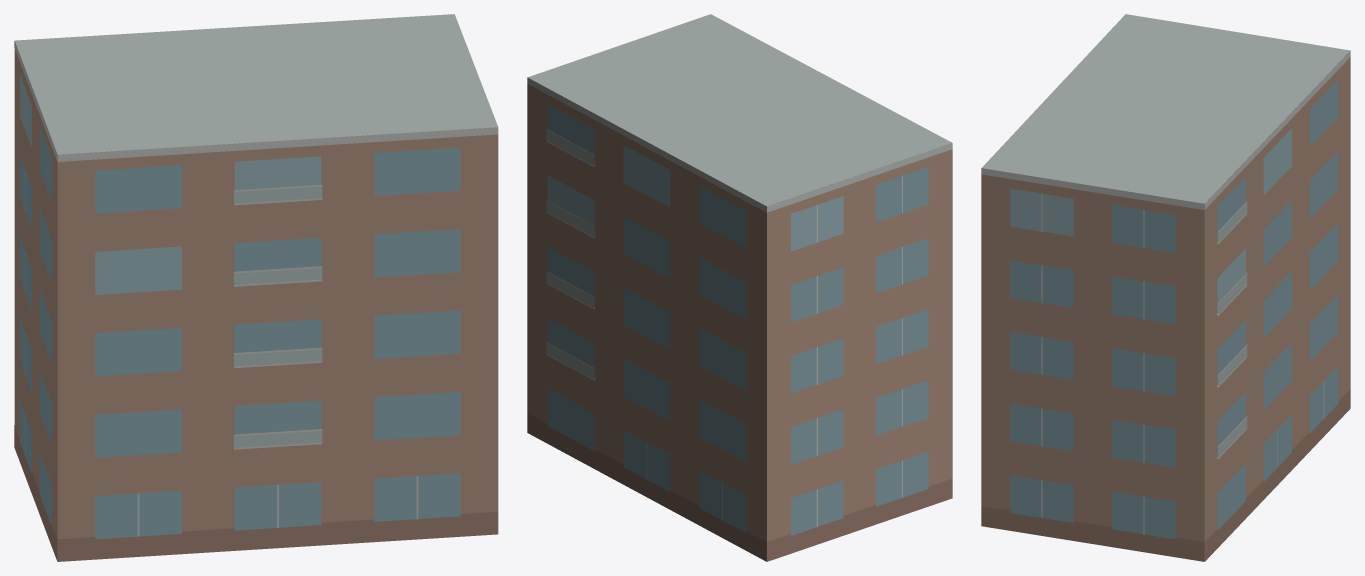
The model's file is survey-upis-32992589.glb.
The picture shows the model from 3 angles, left to right: view 1: azimuth 30°, elevation 25°; view 2: azimuth 150°, elevation 25°; view 3: azimuth 270°, elevation 25°; orthographic projection. The views are drawn at different scales.
Parts seen in each view (by area): view 1: survey-upis-32992589.tmp; view 2: survey-upis-32992589.tmp; view 3: survey-upis-32992589.tmp.
Part boxes in pixels (x1=…): survey-upis-32992589.tmp: x1=14, y1=14, x2=498, y2=561; survey-upis-32992589.tmp: x1=527, y1=14, x2=952, y2=561; survey-upis-32992589.tmp: x1=981, y1=14, x2=1350, y2=561.
Size of the model in its own units: 15.69 by 13.8 by 12.9.
